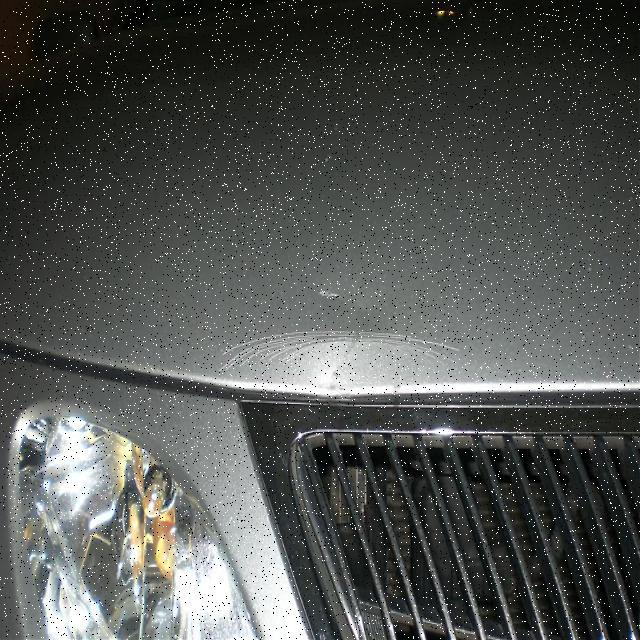bonnet-dent: (0, 4, 639, 506)
